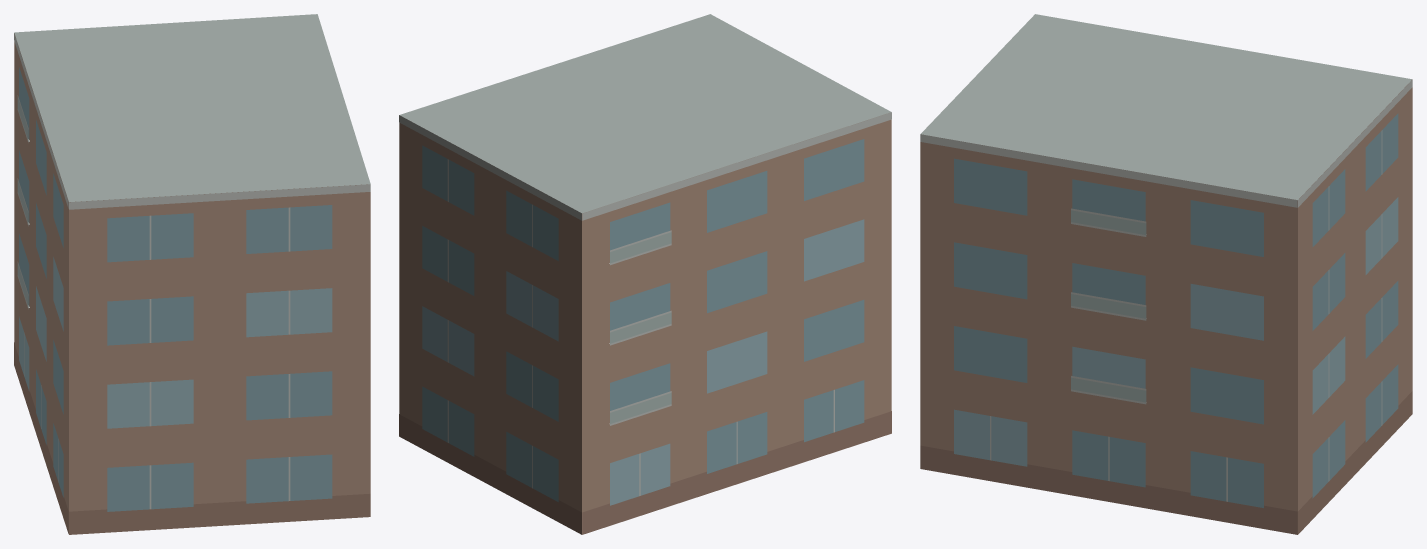
The model's file is survey-upis-32924536.glb.
3 views of the same model, side by side, from view 1: azimuth 30°, elevation 25°; view 2: azimuth 150°, elevation 25°; view 3: azimuth 270°, elevation 25° (orthographic). The views are drawn at different scales.
Parts seen in each view (by area): view 1: survey-upis-32924536.tmp; view 2: survey-upis-32924536.tmp; view 3: survey-upis-32924536.tmp.
Boxes of the visible parts, bbox=[...] form: survey-upis-32924536.tmp: bbox=[14, 14, 370, 534]; survey-upis-32924536.tmp: bbox=[399, 14, 891, 534]; survey-upis-32924536.tmp: bbox=[920, 14, 1412, 534].
Size of the model in its own units: 12.65 by 10.6 by 14.14.
